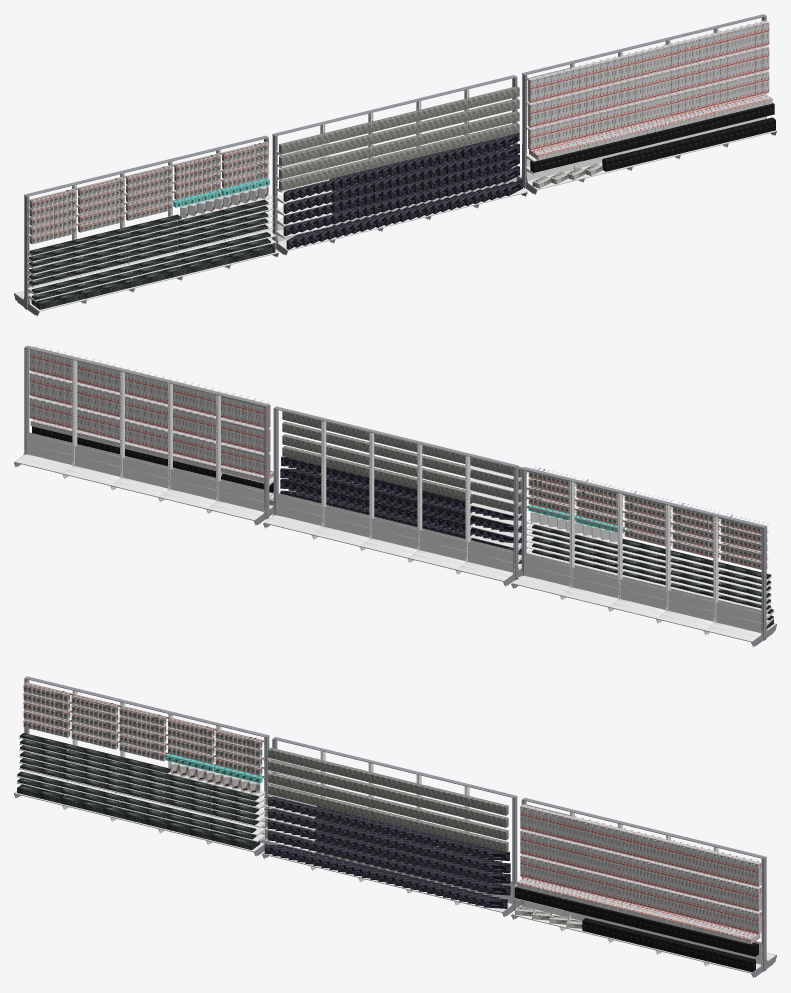
The model's file is maus (2).glb.
The picture shows the model from 3 angles, top to bottom: view 1: azimuth 30°, elevation 25°; view 2: azimuth 150°, elevation 25°; view 3: azimuth 330°, elevation 25°; orthographic projection.
Parts seen in each view (by area): view 1: Балка оранжевая с основанием 225.003, Основа стеллажа 225.001, Cube.272, Куб.155, Куб.538, Куб.539, Куб.002, Куб.156, Основа стеллажа 225.002, Куб.001, Куб.009, Куб.006 (+12 smaller); view 2: Основа стеллажа 225.002, Основа стеллажа 225.001, Балка оранжевая с основанием 225.003, Куб.002, Куб.538, Куб.156, Куб.539, Cube.272, Куб.155, Куб.012, Куб.014, Куб.011 (+12 smaller); view 3: Балка оранжевая с основанием 225.003, Основа стеллажа 225.001, Cube.272, Куб.155, Куб.539, Куб.002, Куб.538, Куб.156, Куб.001, Основа стеллажа 225.002, Куб.009, Куб.006 (+13 smaller).
Boxes of the visible parts, x1,y1,x2,y2 form: Балка оранжевая с основанием 225.003: (517, 14, 776, 195); Основа стеллажа 225.001: (269, 75, 527, 256); Cube.272: (529, 93, 772, 160); Куб.155: (530, 103, 774, 172); Куб.538: (279, 98, 519, 166); Куб.539: (279, 86, 519, 154); Куб.002: (279, 111, 519, 178); Куб.156: (279, 122, 519, 190); Основа стеллажа 225.002: (14, 135, 278, 316); Куб.001: (602, 117, 775, 171); Куб.009: (31, 232, 270, 293); Куб.006: (36, 245, 275, 306); Основа стеллажа 225.002: (511, 467, 776, 647); Основа стеллажа 225.001: (263, 406, 521, 587); Балка оранжевая с основанием 225.003: (14, 345, 273, 526); Куб.002: (282, 434, 521, 502); Куб.538: (282, 421, 521, 489); Куб.156: (282, 446, 521, 513); Куб.539: (282, 411, 522, 477); Cube.272: (30, 419, 273, 482); Куб.155: (32, 426, 273, 492); Куб.012: (532, 537, 770, 597); Куб.014: (532, 525, 770, 585); Куб.011: (532, 543, 770, 603); Балка оранжевая с основанием 225.003: (511, 797, 776, 978); Основа стеллажа 225.001: (262, 737, 521, 917); Cube.272: (516, 877, 760, 944); Куб.155: (515, 887, 758, 956); Куб.539: (268, 747, 508, 815); Куб.002: (268, 772, 508, 840); Куб.538: (268, 760, 508, 827); Куб.156: (268, 784, 508, 851); Куб.001: (582, 918, 755, 972); Основа стеллажа 225.002: (14, 676, 272, 857); Куб.009: (17, 771, 256, 832); Куб.006: (17, 785, 255, 846).
Size of the model in its own units: 15.5 by 2.27 by 0.9122.
17 materials, 12 textured.
